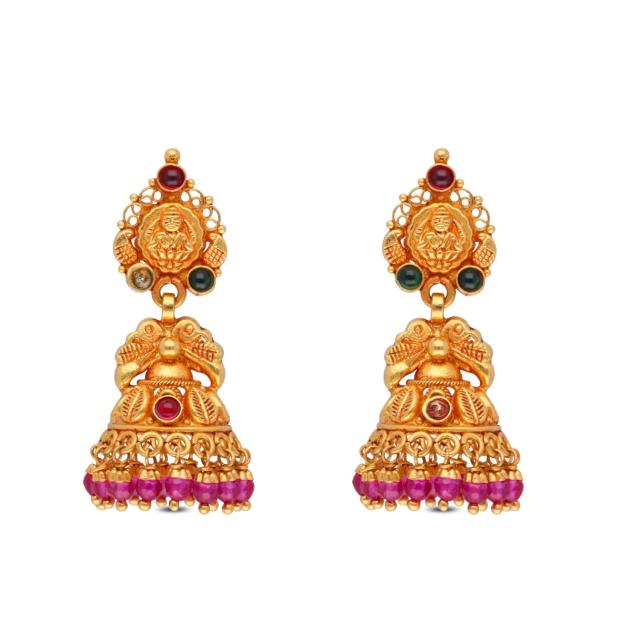missing gem: (130, 267, 153, 289), (426, 398, 449, 420)
